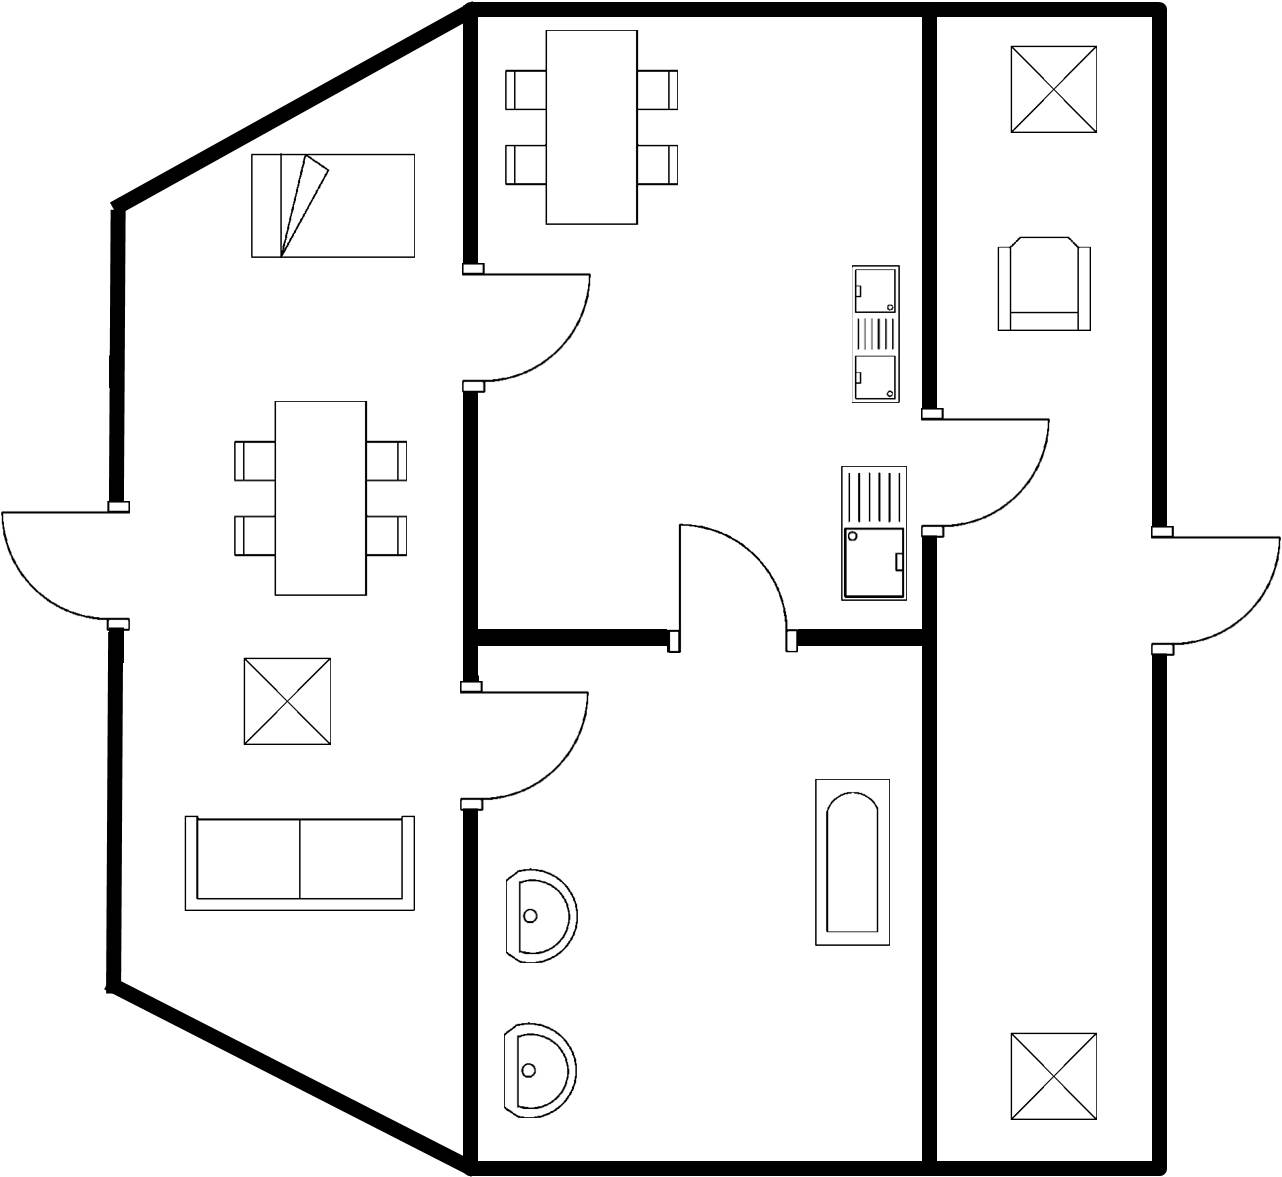armchair: (988, 227, 1102, 342)
bed: (244, 147, 428, 271)
cavity: (803, 771, 900, 956)
coffee_table: (228, 649, 345, 755), (1003, 1023, 1110, 1129), (1000, 36, 1102, 143)
dining_table: (225, 394, 421, 604), (497, 24, 688, 232)
large_sofa: (173, 808, 422, 923)
sink: (828, 457, 918, 611)
small_sink: (491, 1015, 585, 1126), (497, 863, 582, 972)
tub: (806, 770, 900, 954)
twin_sink: (839, 259, 908, 409)
